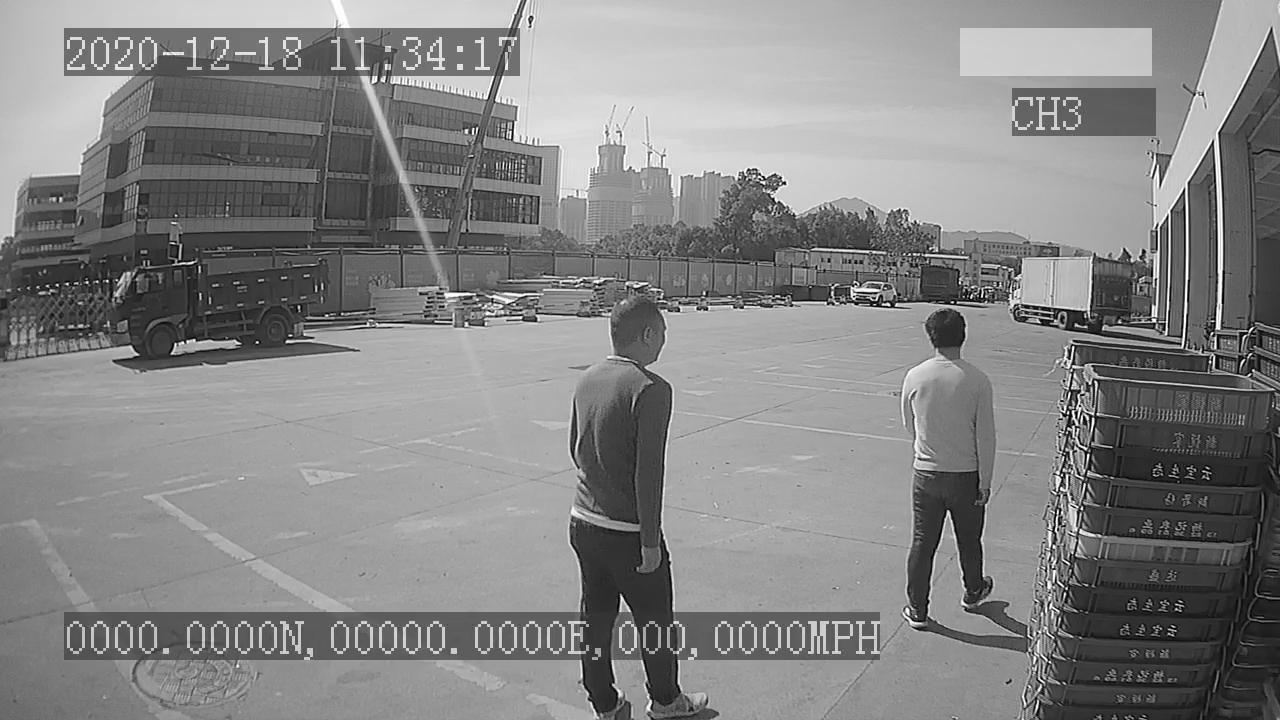person: (882, 303, 1002, 626)
